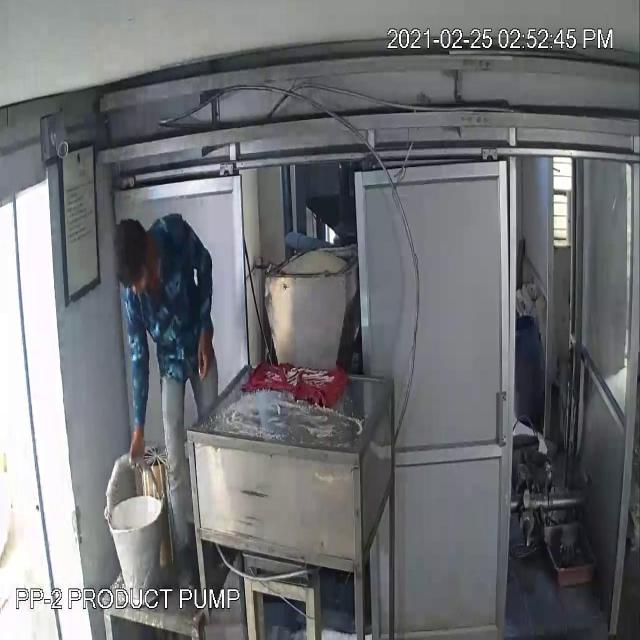no-helmet: (113, 212, 155, 310)
